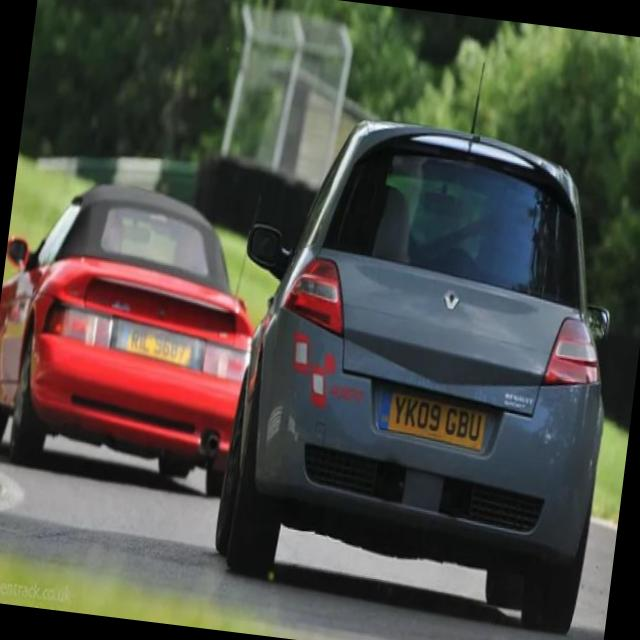LicensePlate: (378, 391, 486, 450), (110, 319, 204, 369)
